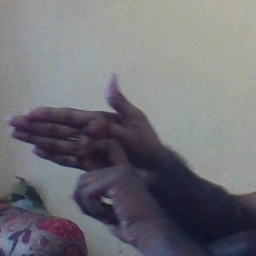R: (10, 64, 159, 217)
